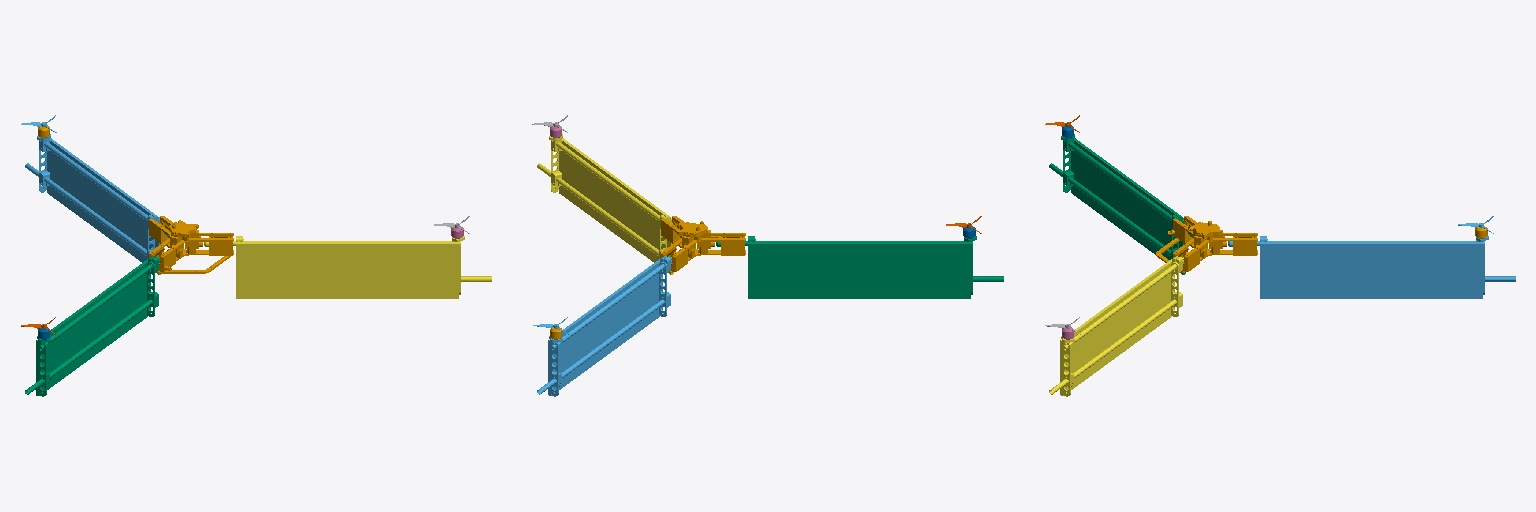
The robot description file, URDF, robot "(Unsaved)":
<?xml version="1.0" ?>
<robot name="(Unsaved)">

<material name="silver">
  <color rgba="0.700 0.700 0.700 1.000"/>
</material>

<link name="base_link">
  <inertial>
    <origin xyz="-5.203171791501271e-05 -0.001530765508105926 0.03193794004070813" rpy="0 0 0"/>
    <mass value="0.25021955564014492"/><!-- 150 gram -->
    <inertia ixx="2.7898397443267e-05" iyy="2.6839184863858357e-05" izz="4.7415497348326645e-05" ixy="-1.9331467175170355e-07" iyz="-8.907983367474753e-07" ixz="-6.707279103053248e-08"/>
  </inertial>
  <visual>
    <origin xyz="0 0 0" rpy="0 0 0"/>
    <geometry>
      <mesh filename="meshes/base_link.stl" scale="0.001 0.001 0.001"/>
    </geometry>
    <material name="silver"/>
    <material/>
  </visual>
  <collision>
    <origin xyz="0 0 0" rpy="0 0 0"/>
    <geometry>
      <mesh filename="meshes/base_link.stl" scale="0.001 0.001 0.001"/>
    </geometry>
  </collision>
</link>

<link name="wing_a_link1">
  <inertial>
    <origin xyz="0.005696771387558323 0.1748176894147221 -0.026841889403604973" rpy="0 0 0"/>
    <mass value="0.04060892541828371"/> <!-- 40 gram -->
    <inertia ixx="0.0007293374996617786" iyy="5.328335727308951e-05" izz="0.0006781877865775846" ixy="4.628149343887772e-06" iyz="-3.2645190726438505e-05" ixz="2.2555674462080956e-06"/>
  </inertial>
  <visual>
    <origin xyz="0.0 -0.024474 -0.030885" rpy="0 0 0"/>
    <geometry>
      <mesh filename="meshes/wing_a_link1.stl" scale="0.001 0.001 0.001"/>
    </geometry>
    <material name="silver"/>
    <material/>
  </visual>
  <collision>
    <origin xyz="0.0 -0.024474 -0.030885" rpy="0 0 0"/>
    <geometry>
      <mesh filename="meshes/wing_a_link1.stl" scale="0.001 0.001 0.001"/>
    </geometry>
  </collision>
</link>

<link name="wing_b_link1">
  <inertial>
    <origin xyz="-0.1542450514900443 -0.08247529596618804 -0.026956607960014478" rpy="0 0 0"/>
    <mass value="0.04060892541828371"/>
    <inertia ixx="0.00022630498777457706" iyy="0.0005563158691602919" izz="0.0006781877865775767" ixy="-0.000295054105493097" iyz="1.827597407158458e-05" ixz="2.7143780757379993e-05"/>
  </inertial>
  <visual>
    <origin xyz="0.021195 0.012237 -0.030885" rpy="0 0 0"/>
    <geometry>
      <mesh filename="meshes/wing_b_link1.stl" scale="0.001 0.001 0.001"/>
    </geometry>
    <material name="silver"/>
    <material/>
  </visual>
  <collision>
    <origin xyz="0.021195 0.012237 -0.030885" rpy="0 0 0"/>
    <geometry>
      <mesh filename="meshes/wing_b_link1.stl" scale="0.001 0.001 0.001"/>
    </geometry>
  </collision>
</link>

<link name="wing_c_link1">
  <inertial>
    <origin xyz="0.1485482801024913 -0.09234239344853429 -0.02695660796001445" rpy="0 0 0"/>
    <mass value="0.04060892541828371"/>
    <inertia ixx="0.000218288797965946" iyy="0.0005643320589689212" izz="0.0006781877865775811" ixy="0.0002904259561492088" iyz="1.4369216654853764e-05" ixz="-2.939934820358811e-05"/>
  </inertial>
  <visual>
    <origin xyz="-0.021195 0.012237 -0.030885" rpy="0 0 0"/>
    <geometry>
      <mesh filename="meshes/wing_c_link1.stl" scale="0.001 0.001 0.001"/>
    </geometry>
    <material name="silver"/>
    <material/>
  </visual>
  <collision>
    <origin xyz="-0.021195 0.012237 -0.030885" rpy="0 0 0"/>
    <geometry>
      <mesh filename="meshes/wing_c_link1.stl" scale="0.001 0.001 0.001"/>
    </geometry>
  </collision>
</link>

<link name="wing_b_link1motor_b_link1">
  <inertial>
    <origin xyz="9.231066094850249e-08 1.0012905082845691e-07 0.00795175395350372" rpy="0 0 0"/>
    <mass value="0.060164910276644738"/> <!-- 60 gram -->
    <inertia ixx="2.8146811264972353e-07" iyy="2.814683695314519e-07" izz="2.8952392484317673e-07" ixy="-5.914301166864977e-14" iyz="2.1971828653363779e-13" ixz="6.034659669760037e-13"/>
  </inertial>
  <visual>
    <origin xyz="0.275159 0.158884 -0.039885" rpy="0 0 0"/>
    <geometry>
      <mesh filename="meshes/wing_b_link1motor_b_link1.stl" scale="0.001 0.001 0.001"/>
    </geometry>
    <material name="silver"/>
    <material/>
  </visual>
  <collision>
    <origin xyz="0.275159 0.158884 -0.039885" rpy="0 0 0"/>
    <geometry>
      <mesh filename="meshes/wing_b_link1motor_b_link1.stl" scale="0.001 0.001 0.001"/>
    </geometry>
  </collision>
</link>

<link name="wing_b_link1motor_b_link1prop_b_link1">
  <inertial>
    <origin xyz="9.743273227114102e-08 1.1455035012208903e-07 -0.0011794865606498742" rpy="0 0 0"/>
    <mass value="0.0103131751235644734"/> <!-- 10 gram -->
    <inertia ixx="8.978920287104207e-08" iyy="8.978945980851196e-08" izz="1.7734403043569917e-07" ixy="-5.929371577062525e-14" iyz="8.692928037015539e-15" ixz="-8.062825309750749e-15"/>
  </inertial>
  <visual>
    <origin xyz="0.275159 0.158884 -0.055585" rpy="0 0 0"/>
    <geometry>
      <mesh filename="meshes/wing_b_link1motor_b_link1prop_b_link1.stl" scale="0.001 0.001 0.001"/>
    </geometry>
    <material name="silver"/>
    <material/>
  </visual>
  <collision>
    <origin xyz="0.275159 0.158884 -0.055585" rpy="0 0 0"/>
    <geometry>
      <mesh filename="meshes/wing_b_link1motor_b_link1prop_b_link1.stl" scale="0.001 0.001 0.001"/>
    </geometry>
  </collision>
</link>

<link name="wing_c_link1motor_c_link1">
  <inertial>
    <origin xyz="-5.261474544937528e-08 3.4579893001818185e-07 0.007951753953503726" rpy="0 0 0"/>
    <mass value="0.060164910276644738"/>
    <inertia ixx="2.814682540917574e-07" iyy="2.8146822808963485e-07" izz="2.8952392484339357e-07" ixy="1.4080468561938897e-13" iyz="4.1275773895793275e-13" ixz="-4.920146186087812e-13"/>
  </inertial>
  <visual>
    <origin xyz="-0.275177 0.158853 -0.039885" rpy="0 0 0"/>
    <geometry>
      <mesh filename="meshes/wing_c_link1motor_c_link1.stl" scale="0.001 0.001 0.001"/>
    </geometry>
    <material name="silver"/>
    <material/>
  </visual>
  <collision>
    <origin xyz="-0.275177 0.158853 -0.039885" rpy="0 0 0"/>
    <geometry>
      <mesh filename="meshes/wing_c_link1motor_c_link1.stl" scale="0.001 0.001 0.001"/>
    </geometry>
  </collision>
</link>

<link name="wing_c_link1motor_c_link1prop_c_link1">
  <inertial>
    <origin xyz="-6.766499277555127e-08 3.4302412438291796e-07 -0.0011794865606498534" rpy="0 0 0"/>
    <mass value="0.0103131751235644734"/>
    <inertia ixx="8.978934422431366e-08" iyy="8.97893184552878e-08" izz="1.7734403043572627e-07" ixy="1.4090406630102442e-13" iyz="-1.1329072445789845e-14" ixz="-3.4968806550492865e-15"/>
  </inertial>
  <visual>
    <origin xyz="-0.275177 0.158853 -0.055585" rpy="0 0 0"/>
    <geometry>
      <mesh filename="meshes/wing_c_link1motor_c_link1prop_c_link1.stl" scale="0.001 0.001 0.001"/>
    </geometry>
    <material name="silver"/>
    <material/>
  </visual>
  <collision>
    <origin xyz="-0.275177 0.158853 -0.055585" rpy="0 0 0"/>
    <geometry>
      <mesh filename="meshes/wing_c_link1motor_c_link1prop_c_link1.stl" scale="0.001 0.001 0.001"/>
    </geometry>
  </collision>
</link>

<link name="wing_a_link1motor_a_link1">
  <inertial>
    <origin xyz="-3.9695910268725866e-08 -4.459279809299055e-07 0.00795147250991321" rpy="0 0 0"/>
    <mass value="0.060164910276644738"/>
    <inertia ixx="2.81468356530621e-07" iyy="2.8146812565082207e-07" izz="2.8952392484339357e-07" ixy="-8.166158006243095e-14" iyz="-6.324760051627798e-13" ixz="-1.1145137661461322e-13"/>
  </inertial>
  <visual>
    <origin xyz="1.8e-05 -0.317737 -0.04" rpy="0 0 0"/>
    <geometry>
      <mesh filename="meshes/wing_a_link1motor_a_link1.stl" scale="0.001 0.001 0.001"/>
    </geometry>
    <material name="silver"/>
    <material/>
  </visual>
  <collision>
    <origin xyz="1.8e-05 -0.317737 -0.04" rpy="0 0 0"/>
    <geometry>
      <mesh filename="meshes/wing_a_link1motor_a_link1.stl" scale="0.001 0.001 0.001"/>
    </geometry>
  </collision>
</link>

<link name="wing_a_link1motor_a_link1prop_a_link1">
  <inertial>
    <origin xyz="-2.976773435743707e-08 -4.5757447464378487e-07 -0.0011797680042403627" rpy="0 0 0"/>
    <mass value="0.0103131751235644734"/>
    <inertia ixx="8.978944692408374e-08" iyy="8.978921575554907e-08" izz="1.7734403043572627e-07" ixy="-8.161035293914911e-14" iyz="2.6361562672355676e-15" ixz="1.1559706091979054e-14"/>
  </inertial>
  <visual>
    <origin xyz="1.8e-05 -0.317737 -0.0557" rpy="0 0 0"/>
    <geometry>
      <mesh filename="meshes/wing_a_link1motor_a_link1prop_a_link1.stl" scale="0.001 0.001 0.001"/>
    </geometry>
    <material name="silver"/>
    <material/>
  </visual>
  <collision>
    <origin xyz="1.8e-05 -0.317737 -0.0557" rpy="0 0 0"/>
    <geometry>
      <mesh filename="meshes/wing_a_link1motor_a_link1prop_a_link1.stl" scale="0.001 0.001 0.001"/>
    </geometry>
  </collision>
</link>

<joint name="Revolute_3" type="revolute">
  <origin xyz="0.0 0.024474 0.030885" rpy="0 0 0"/>
  <parent link="base_link"/>
  <child link="wing_a_link1"/>
  <axis xyz="-0.0 1.0 0.0"/>
  <limit upper="1.570796" lower="-1.658063" effort="100" velocity="100"/>
</joint>
<transmission name="Revolute_3_tran">
  <type>transmission_interface/SimpleTransmission</type>
  <joint name="Revolute_3">
    <hardwareInterface>PositionJointInterface</hardwareInterface>
  </joint>
  <actuator name="Revolute_3_actr">
    <hardwareInterface>PositionJointInterface</hardwareInterface>
    <mechanicalReduction>1</mechanicalReduction>
  </actuator>
</transmission>

<joint name="Revolute_4" type="revolute">
  <origin xyz="-0.021195 -0.012237 0.030885" rpy="0 0 0"/>
  <parent link="base_link"/>
  <child link="wing_b_link1"/>
  <axis xyz="-0.866025 -0.5 0.0"/>
  <limit upper="1.570796" lower="-1.570796" effort="100" velocity="100"/>
</joint>
<transmission name="Revolute_4_tran">
  <type>transmission_interface/SimpleTransmission</type>
  <joint name="Revolute_4">
    <hardwareInterface>PositionJointInterface</hardwareInterface>
  </joint>
  <actuator name="Revolute_4_actr">
    <hardwareInterface>PositionJointInterface</hardwareInterface>
    <mechanicalReduction>1</mechanicalReduction>
  </actuator>
</transmission>

<joint name="Revolute_5" type="revolute">
  <origin xyz="0.021195 -0.012237 0.030885" rpy="0 0 0"/>
  <parent link="base_link"/>
  <child link="wing_c_link1"/>
  <axis xyz="0.866025 -0.5 0.0"/>
  <limit upper="1.570796" lower="-1.570796" effort="100" velocity="100"/>
</joint>
<transmission name="Revolute_5_tran">
  <type>transmission_interface/SimpleTransmission</type>
  <joint name="Revolute_5">
    <hardwareInterface>PositionJointInterface</hardwareInterface>
  </joint>
  <actuator name="Revolute_5_actr">
    <hardwareInterface>PositionJointInterface</hardwareInterface>
    <mechanicalReduction>1</mechanicalReduction>
  </actuator>
</transmission>

<joint name="wing_b_link1_Rigid 2" type="fixed">
  <origin xyz="-0.253964 -0.146647 0.009" rpy="0 0 0"/>
  <parent link="wing_b_link1"/>
  <child link="wing_b_link1motor_b_link1"/>
</joint>

<joint name="wing_b_link1motor_b_link1_Revolute 8" type="continuous">
  <origin xyz="0.0 0.0 0.0157" rpy="0 0 0"/>
  <parent link="wing_b_link1motor_b_link1"/>
  <child link="wing_b_link1motor_b_link1prop_b_link1"/>
  <axis xyz="0.0 0.0 1.0"/>
</joint>
<transmission name="wing_b_link1motor_b_link1_Revolute 8_tran">
  <type>transmission_interface/SimpleTransmission</type>
  <joint name="wing_b_link1motor_b_link1_Revolute 8">
    <hardwareInterface>PositionJointInterface</hardwareInterface>
  </joint>
  <actuator name="wing_b_link1motor_b_link1_Revolute 8_actr">
    <hardwareInterface>PositionJointInterface</hardwareInterface>
    <mechanicalReduction>1</mechanicalReduction>
  </actuator>
</transmission>

<joint name="wing_c_link1_Rigid 1" type="fixed">
  <origin xyz="0.253982 -0.146616 0.009" rpy="0 0 0"/>
  <parent link="wing_c_link1"/>
  <child link="wing_c_link1motor_c_link1"/>
</joint>

<joint name="wing_c_link1motor_c_link1_Revolute 9" type="continuous">
  <origin xyz="0.0 0.0 0.0157" rpy="0 0 0"/>
  <parent link="wing_c_link1motor_c_link1"/>
  <child link="wing_c_link1motor_c_link1prop_c_link1"/>
  <axis xyz="-0.0 0.0 1.0"/>
</joint>
<transmission name="wing_c_link1motor_c_link1_Revolute 9_tran">
  <type>transmission_interface/SimpleTransmission</type>
  <joint name="wing_c_link1motor_c_link1_Revolute 9">
    <hardwareInterface>PositionJointInterface</hardwareInterface>
  </joint>
  <actuator name="wing_c_link1motor_c_link1_Revolute 9_actr">
    <hardwareInterface>PositionJointInterface</hardwareInterface>
    <mechanicalReduction>1</mechanicalReduction>
  </actuator>
</transmission>

<joint name="wing_a_link1_Rigid 1" type="fixed">
  <origin xyz="-1.8e-05 0.293263 0.009115" rpy="0 0 0"/>
  <parent link="wing_a_link1"/>
  <child link="wing_a_link1motor_a_link1"/>
</joint>

<joint name="wing_a_link1motor_a_link1_Revolute 7" type="continuous">
  <origin xyz="0.0 0.0 0.0157" rpy="0 0 0"/>
  <parent link="wing_a_link1motor_a_link1"/>
  <child link="wing_a_link1motor_a_link1prop_a_link1"/>
  <axis xyz="0.0 -0.0 1.0"/>
</joint>
<transmission name="wing_a_link1motor_a_link1_Revolute 7_tran">
  <type>transmission_interface/SimpleTransmission</type>
  <joint name="wing_a_link1motor_a_link1_Revolute 7">
    <hardwareInterface>PositionJointInterface</hardwareInterface>
  </joint>
  <actuator name="wing_a_link1motor_a_link1_Revolute 7_actr">
    <hardwareInterface>PositionJointInterface</hardwareInterface>
    <mechanicalReduction>1</mechanicalReduction>
  </actuator>
</transmission>

</robot>

--- Render facts (derived) ---
The picture shows the robot from 3 angles, left to right: view 1: azimuth 30°, elevation 25°; view 2: azimuth 150°, elevation 25°; view 3: azimuth 270°, elevation 25°; orthographic projection.
Robot: (Unsaved) — 10 links, 9 joints (3 revolute, 3 continuous, 3 fixed); root link base_link; default pose: all joints at 0.
Links seen in each view (by area): view 1: wing_c_link1, wing_b_link1, wing_a_link1, base_link; view 2: wing_b_link1, wing_a_link1, wing_c_link1, base_link; view 3: wing_a_link1, wing_c_link1, wing_b_link1, base_link.
Boxes of the visible links, x1,y1,x2,y2 form: wing_c_link1: [204, 236, 491, 298]; wing_b_link1: [25, 249, 168, 396]; wing_a_link1: [25, 134, 168, 274]; base_link: [149, 216, 233, 273]; wing_b_link1: [716, 236, 1003, 298]; wing_a_link1: [537, 249, 680, 396]; wing_c_link1: [537, 134, 679, 274]; base_link: [661, 216, 745, 272]; wing_a_link1: [1228, 236, 1515, 298]; wing_c_link1: [1049, 249, 1192, 396]; wing_b_link1: [1049, 134, 1192, 274]; base_link: [1156, 216, 1257, 272].
Size in the robot's own frame: 0.6213 by 0.5432 by 0.0911 metres.
10 mesh visuals loaded from 10 distinct referenced files (10 binary STL).